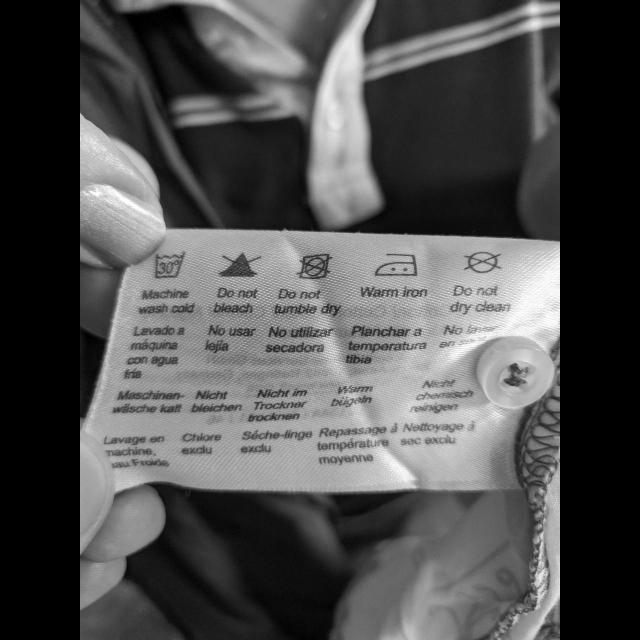30C: (152, 249, 186, 281)
DN_bleach: (217, 249, 263, 281)
DN_dry_clean: (463, 250, 505, 274)
DN_tumble_dry: (297, 252, 333, 280)
iron_medium: (372, 250, 420, 280)
